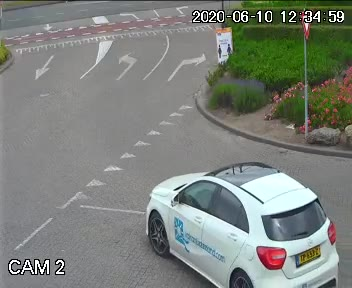car: (131, 150, 349, 288)
